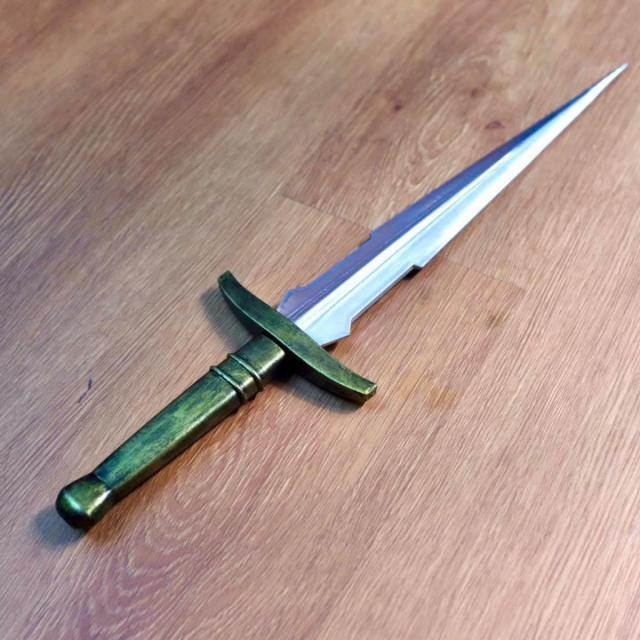short sword: (46, 59, 636, 553)
